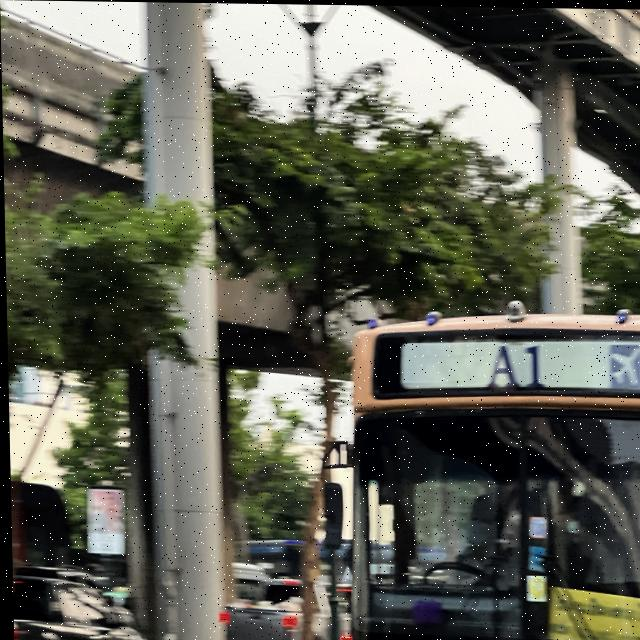BMTA-bus: (333, 291, 640, 640)
Bus Line Number: (464, 340, 560, 386)
Destination Sign: (545, 584, 640, 640)
